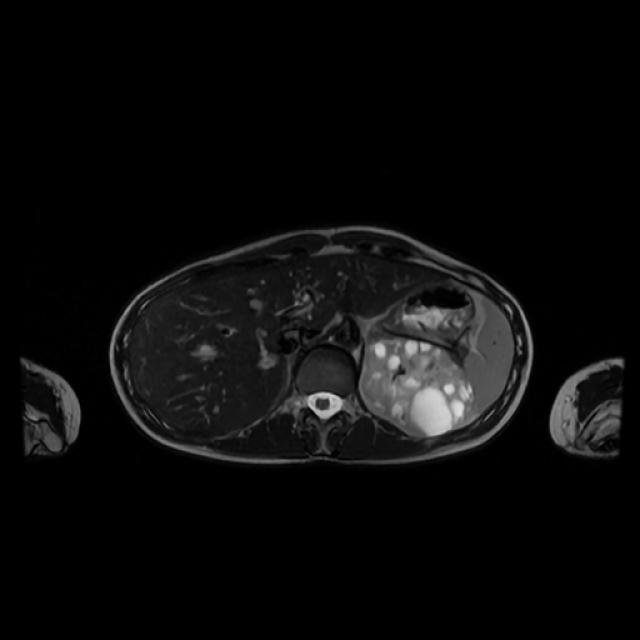sol: (364, 338, 474, 433)
